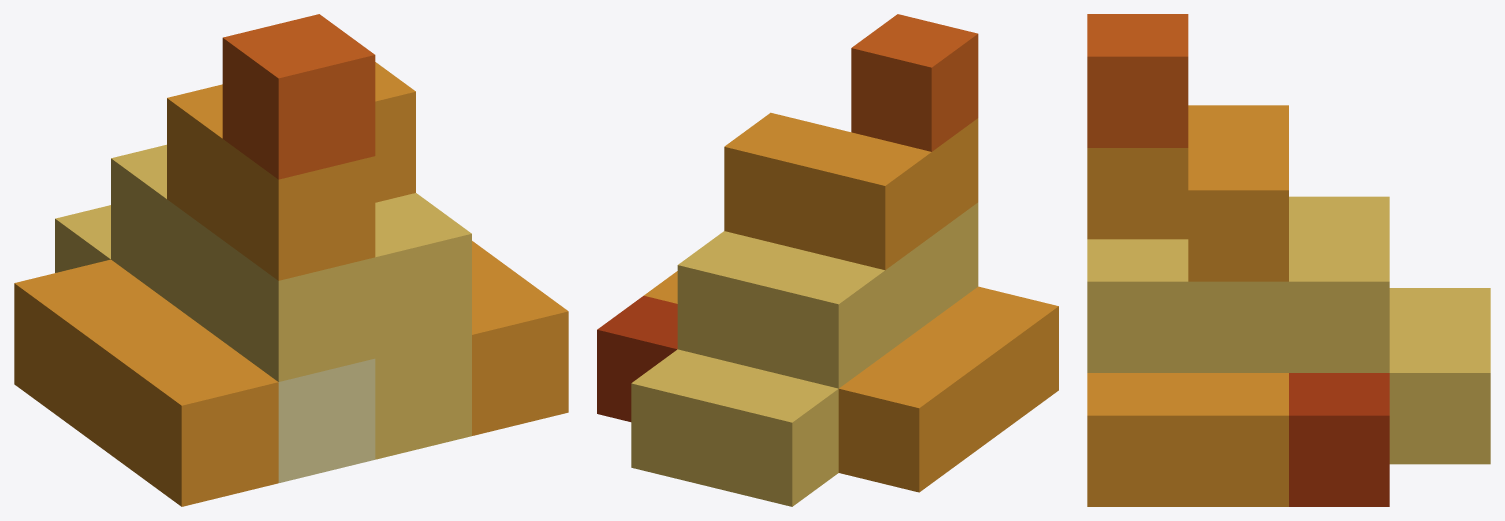
The model's file is flame_07.glb.
The picture shows the model from 3 angles, left to right: view 1: azimuth 30°, elevation 25°; view 2: azimuth 150°, elevation 25°; view 3: azimuth 270°, elevation 25°; orthographic projection. The views are drawn at different scales.
Parts seen in each view (by area): view 1: flame_07; view 2: flame_07; view 3: flame_07.
Boxes of the visible parts, x1=… form: flame_07: x1=14, y1=14, x2=568, y2=506; flame_07: x1=597, y1=14, x2=1058, y2=506; flame_07: x1=1087, y1=14, x2=1490, y2=506.
Size of the model in its own units: 0.5 by 0.5 by 0.5.
